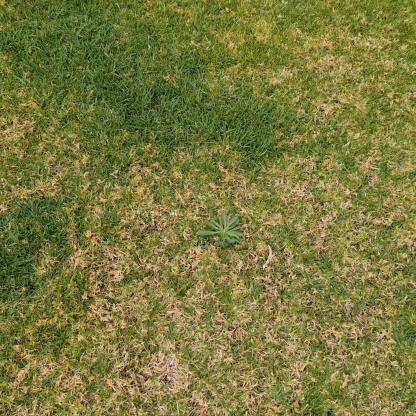Weeds: (196, 212, 243, 246)
